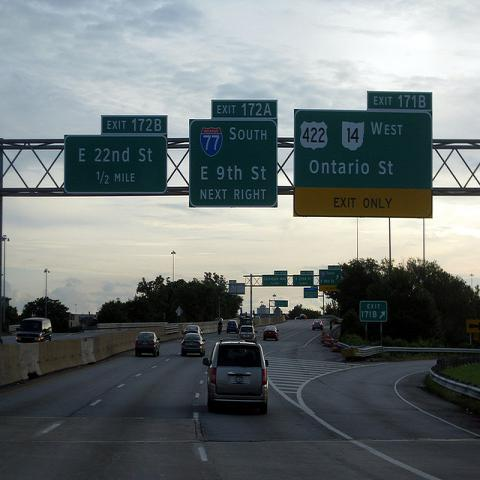car: (202, 340, 270, 413), (134, 330, 160, 356), (181, 333, 206, 357), (236, 325, 256, 338), (263, 326, 279, 342), (184, 324, 204, 334), (226, 321, 238, 336), (312, 319, 324, 330), (239, 318, 252, 327), (299, 314, 305, 319)
motorcycle: (217, 326, 222, 335)
